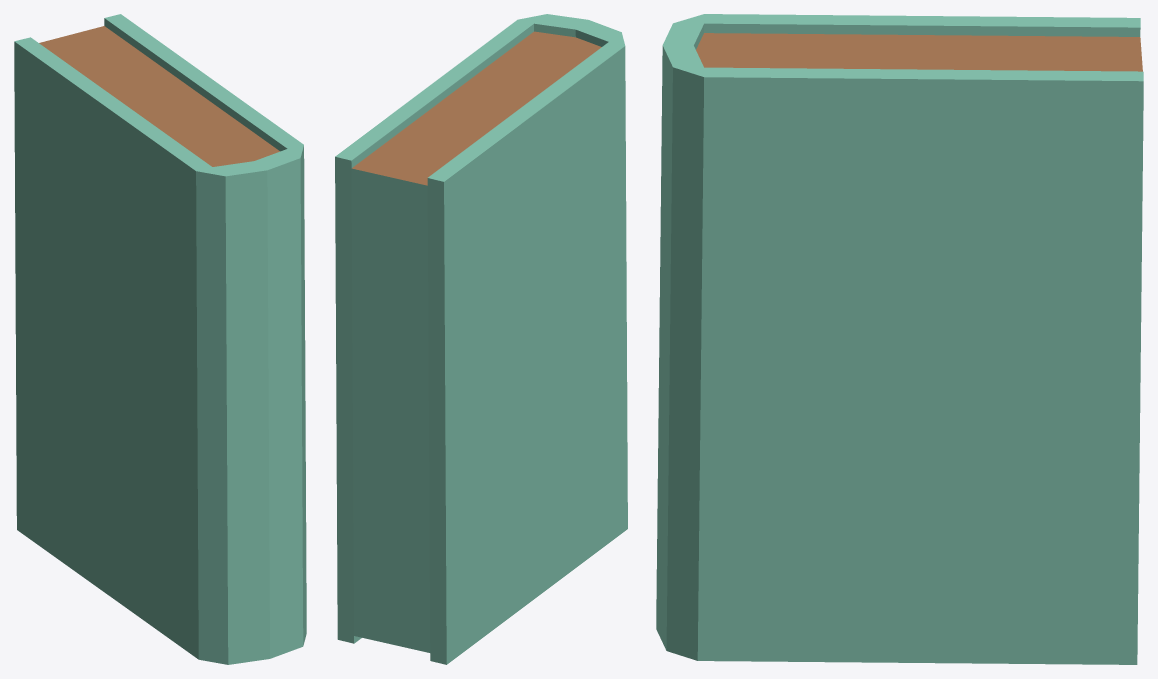
The model's file is Libro_3.fbx.
3 renders of one model, left to right at view 1: azimuth 30°, elevation 25°; view 2: azimuth 150°, elevation 25°; view 3: azimuth 270°, elevation 25°, orthographic. The views are drawn at different scales.
Visible parts, largest first — view 1: Cube.022; view 2: Cube.022; view 3: Cube.022.
Part boxes in pixels (x1=…): Cube.022: x1=14, y1=14, x2=306, y2=664; Cube.022: x1=335, y1=14, x2=627, y2=664; Cube.022: x1=656, y1=14, x2=1143, y2=664.
Bounding box in the file's own units: 8.4 × 36.43 × 27.37.
